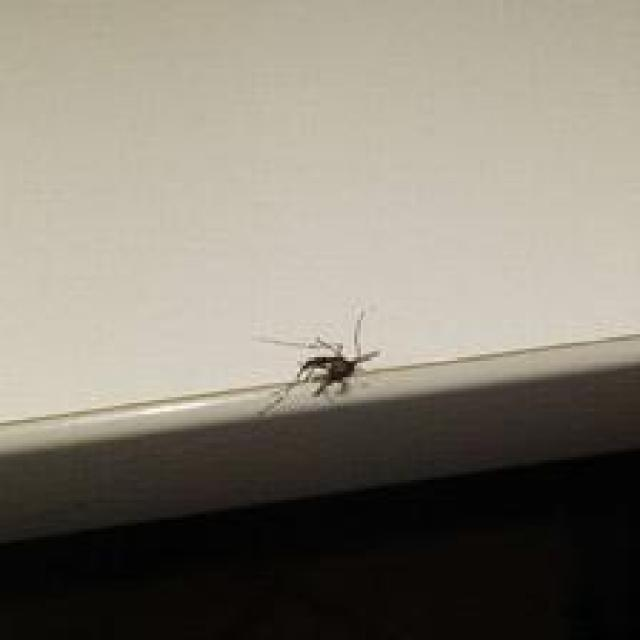Aedes albopictus: (253, 309, 381, 417)
